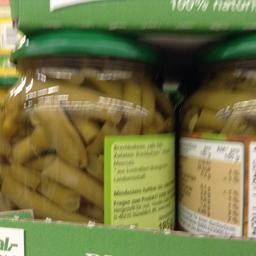beans: (4, 34, 174, 236), (180, 30, 254, 236)
